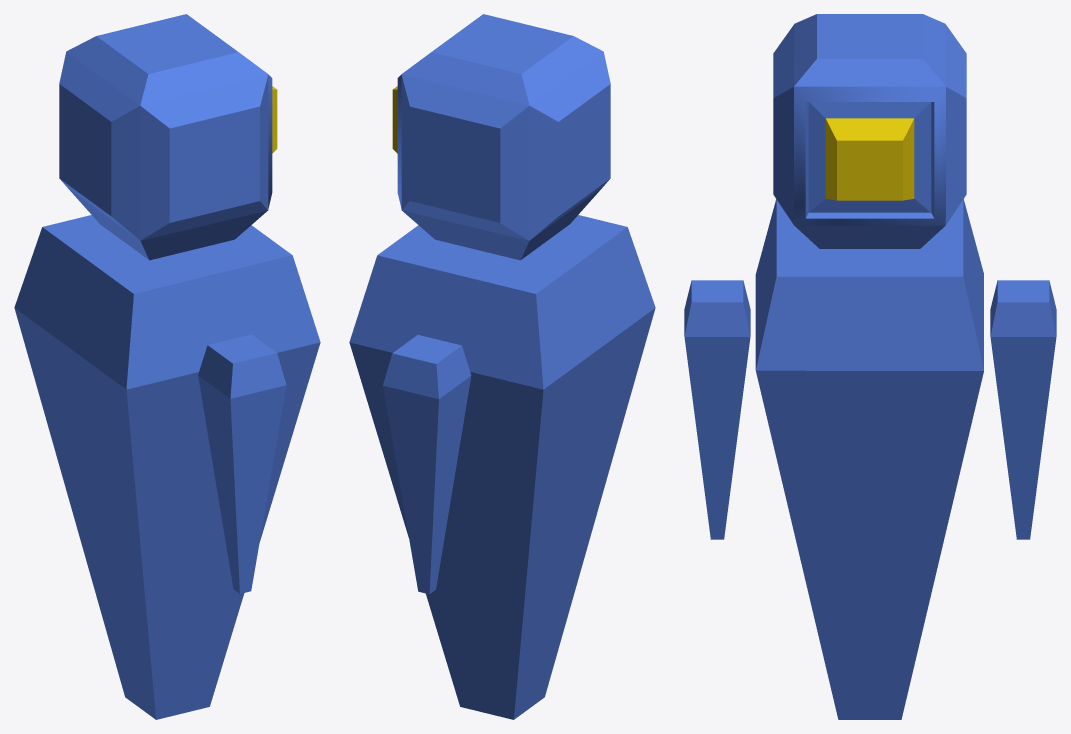
The model's file is Player_4.fbx.
3 renders of one model, left to right at view 1: azimuth 30°, elevation 25°; view 2: azimuth 150°, elevation 25°; view 3: azimuth 270°, elevation 25°, orthographic.
Parts seen in each view (by area): view 1: Cube.001; view 2: Cube.001; view 3: Cube.001.
Boxes of the visible parts, x1,y1,x2,y2 form: Cube.001: (14,14,320,719); Cube.001: (349,14,655,719); Cube.001: (684,14,1056,719).
Size of the model in its own units: 148 by 478 by 241.
